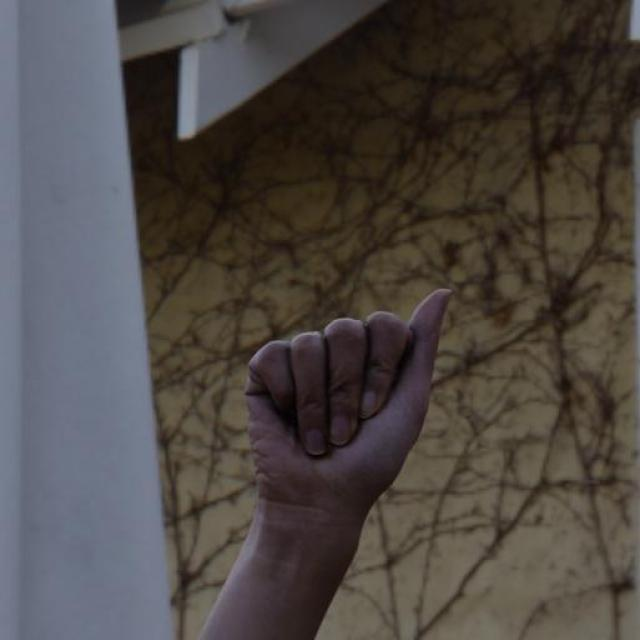A: (242, 284, 454, 510)
